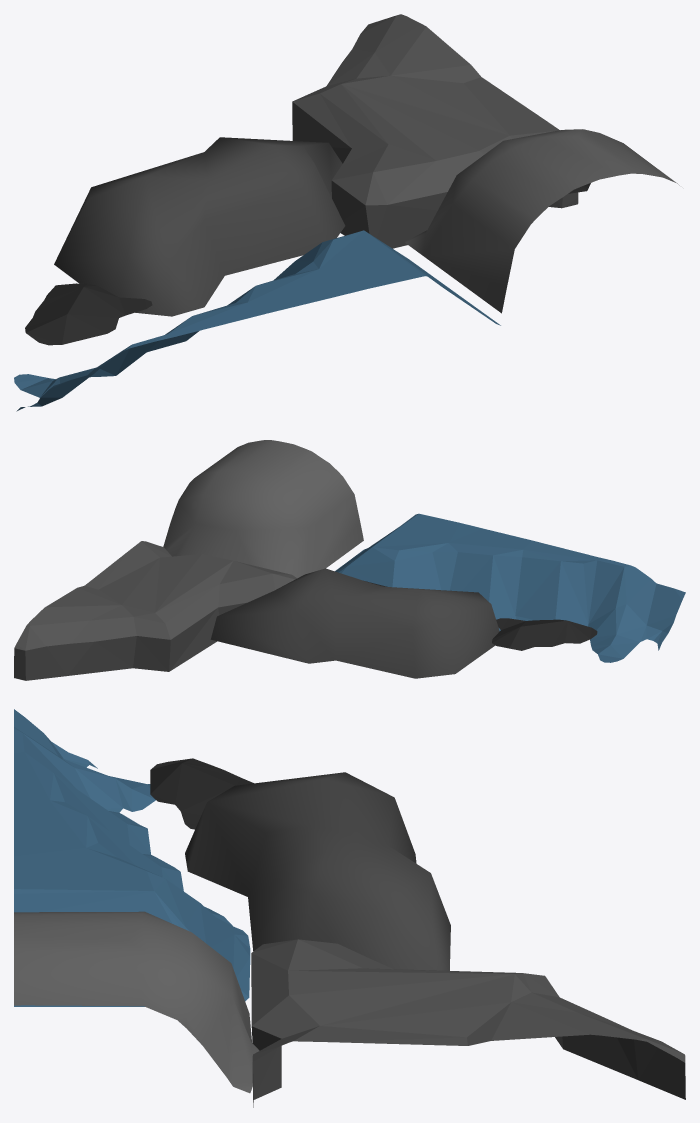
Rendered from newsho-3.glb.
3 renders of one model, top to bottom at view 1: azimuth 30°, elevation 25°; view 2: azimuth 150°, elevation 25°; view 3: azimuth 270°, elevation 25°, orthographic. The views are drawn at different scales.
Visible parts, largest first — view 1: newsho-3; view 2: newsho-3; view 3: newsho-3.
Part boxes in pixels (box(x1,y1,x2,y2)): newsho-3: box(14, 14, 679, 411); newsho-3: box(14, 440, 685, 680); newsho-3: box(14, 709, 685, 1107).
Size of the model in its own units: 2 by 0.389 by 1.66.
